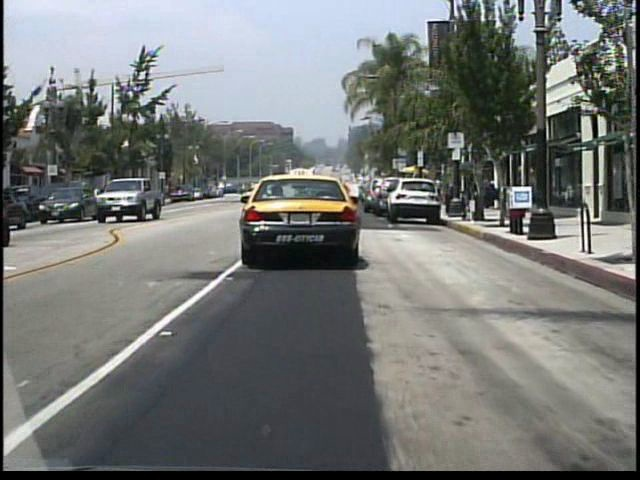person: (432, 175, 443, 203)
